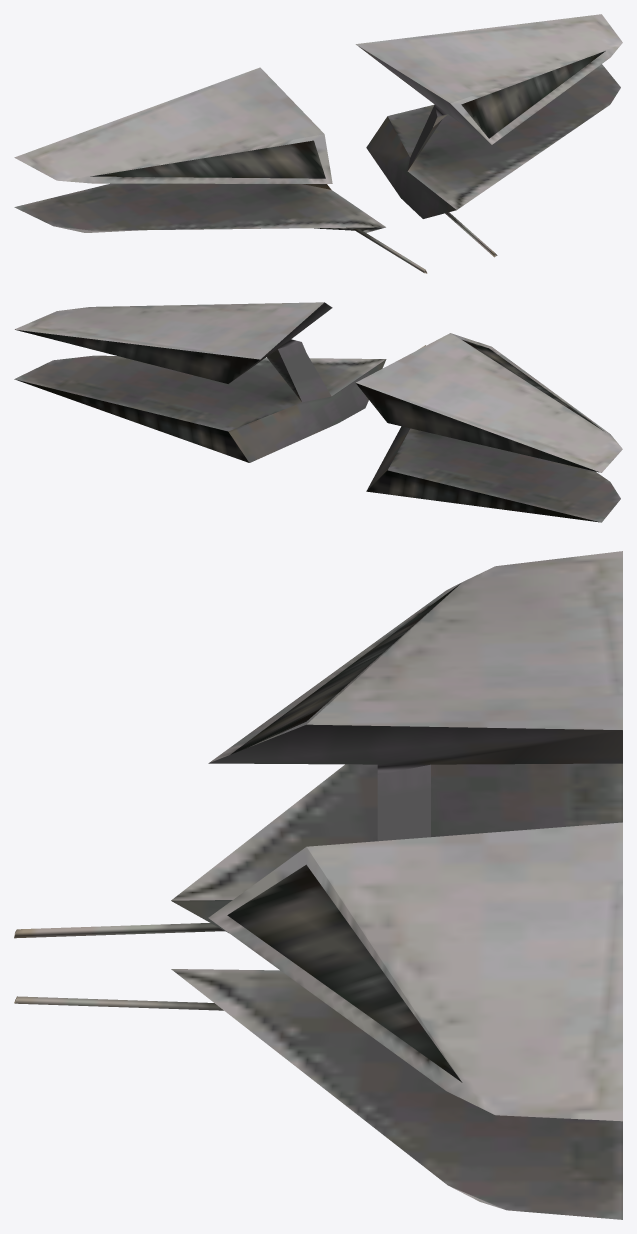
Rendered from hutt_fighter_heavy_struct_s02_l2.fbx.
3 renders of one model, top to bottom at view 1: azimuth 30°, elevation 25°; view 2: azimuth 150°, elevation 25°; view 3: azimuth 270°, elevation 25°, orthographic. The views are drawn at different scales.
Parts seen in each view (by area): view 1: mesh_node; view 2: mesh_node; view 3: mesh_node.
Boxes of the visible parts, x1,y1,x2,y2 form: mesh_node: [14, 14, 622, 273]; mesh_node: [14, 302, 622, 522]; mesh_node: [14, 551, 622, 1219].
Bounding box in the file's own units: 28.24 × 4.92 × 12.74.
